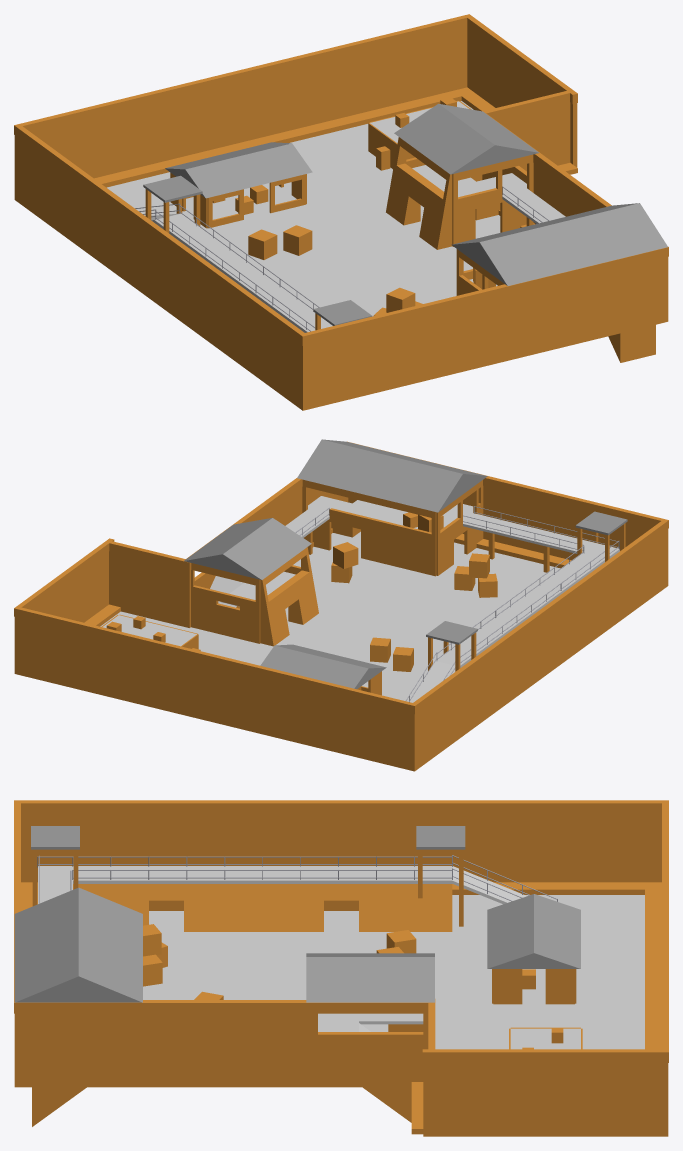
File: arena_map.glb
3 renders of one model, top to bottom at view 1: azimuth 30°, elevation 25°; view 2: azimuth 150°, elevation 25°; view 3: azimuth 270°, elevation 25°, orthographic. The views are drawn at different scales.
Parts seen in each view (by area): view 1: NWall, SWall, WWall, Floor_main, SE_roof, Floor_NE, Floor_main.001, NE_roof, NTrim, EWall_top, HS_roof, STrim (+24 smaller); view 2: NWall, Floor_main.001, WWall, Floor_main, SE_roof, SWall, StepOutWall, NE_roof, NTrim, Walk_W_floor, WTrim, EWall_top (+32 smaller); view 3: WWall, EWall_bot_S, Floor_main.001, EWall_top, Floor_main, SE_roof, Floor_NE, WTrim, Corr_wall_E_sec2, NE_roof, HS_roof, Walk_W_floor (+29 smaller).
Boxes of the visible parts, bbox=[...] form: NWall: bbox=[15, 15, 470, 199]; SWall: bbox=[300, 257, 668, 410]; WWall: bbox=[14, 124, 307, 410]; Floor_main: bbox=[234, 205, 500, 316]; SE_roof: bbox=[451, 203, 667, 285]; Floor_NE: bbox=[244, 124, 392, 230]; Floor_main.001: bbox=[107, 124, 441, 314]; NE_roof: bbox=[394, 103, 539, 174]; NTrim: bbox=[14, 14, 471, 136]; EWall_top: bbox=[465, 14, 577, 167]; HS_roof: bbox=[165, 142, 312, 198]; STrim: bbox=[299, 247, 668, 345]; NWall: bbox=[14, 608, 416, 770]; Floor_main.001: bbox=[184, 532, 559, 701]; WWall: bbox=[410, 520, 668, 771]; Floor_main: bbox=[285, 531, 560, 681]; SE_roof: bbox=[297, 439, 487, 512]; SWall: bbox=[348, 476, 668, 571]; StepOutWall: bbox=[109, 541, 190, 627]; NE_roof: bbox=[184, 518, 311, 579]; NTrim: bbox=[14, 607, 415, 713]; Walk_W_floor: bbox=[436, 553, 604, 667]; WTrim: bbox=[410, 519, 668, 714]; EWall_top: bbox=[14, 538, 112, 674]; WWall: bbox=[14, 800, 668, 882]; EWall_bot_S: bbox=[14, 1000, 312, 1087]; Floor_main.001: bbox=[143, 895, 644, 1048]; EWall_top: bbox=[423, 1049, 668, 1136]; Floor_main: bbox=[143, 911, 428, 1031]; SE_roof: bbox=[14, 887, 142, 1002]; Floor_NE: bbox=[435, 986, 644, 1049]; WTrim: bbox=[21, 800, 668, 813]; Corr_wall_E_sec2: bbox=[184, 884, 323, 931]; NE_roof: bbox=[306, 953, 434, 1002]; HS_roof: bbox=[487, 894, 580, 968]; Walk_W_floor: bbox=[73, 866, 452, 883].
Size of the model in its own units: 51.1 by 14.5 by 56.1.
